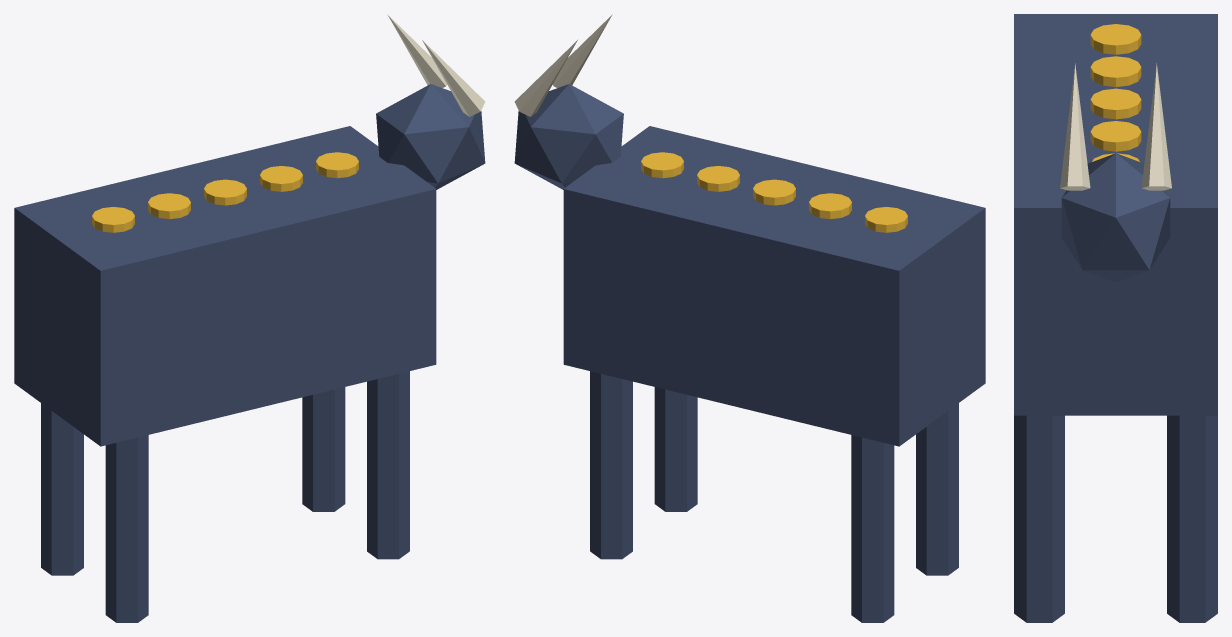
The model's file is Mob_OR_CoinbackGoat_03.glb.
The picture shows the model from 3 angles, left to right: view 1: azimuth 30°, elevation 25°; view 2: azimuth 150°, elevation 25°; view 3: azimuth 270°, elevation 25°; orthographic projection. The views are drawn at different scales.
Visible parts, largest first — view 1: Mob_OR_CoinbackGoat_03; view 2: Mob_OR_CoinbackGoat_03; view 3: Mob_OR_CoinbackGoat_03.
Part boxes in pixels (<box>): Mob_OR_CoinbackGoat_03: <box>14,14,485,622</box>; Mob_OR_CoinbackGoat_03: <box>514,14,985,622</box>; Mob_OR_CoinbackGoat_03: <box>1014,14,1217,622</box>.
Size of the model in its own units: 1.13 by 1.25 by 0.4.
